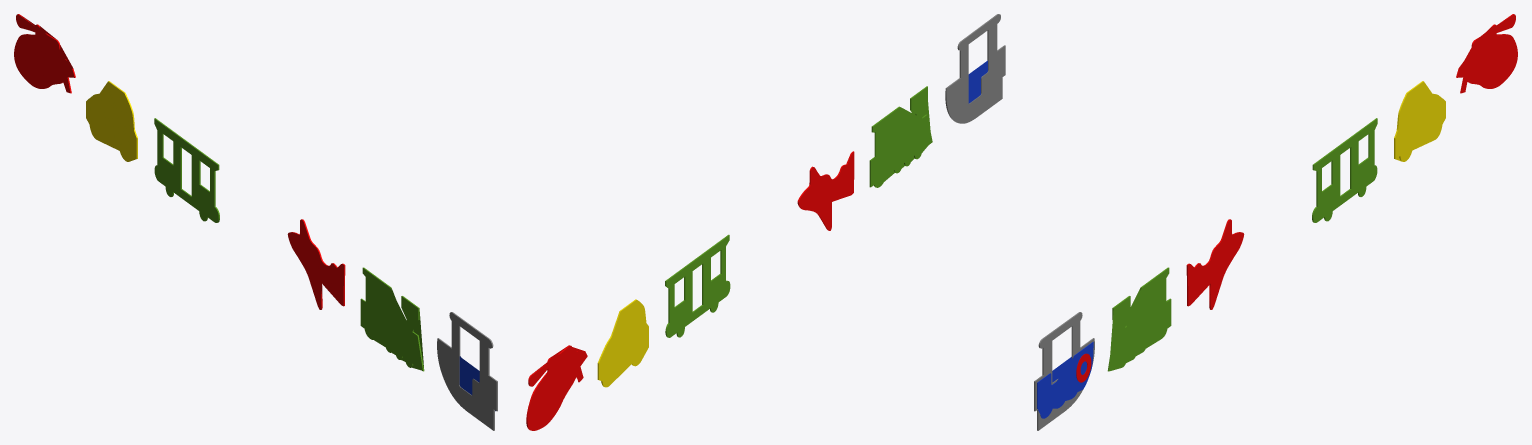
Rendered from TNK-14.fbx.
3 views of the same model, side by side, from view 1: azimuth 30°, elevation 25°; view 2: azimuth 150°, elevation 25°; view 3: azimuth 330°, elevation 25° (orthographic).
Parts seen in each view (by area): view 1: paravoz, korabl3, vagon, vertolet, mawina, samolet, korabl2; view 2: paravoz, korabl3, vagon, vertolet, mawina, samolet, korabl2; view 3: paravoz, vagon, vertolet, mawina, samolet, korabl2, korabl3.
Part boxes in pixels (x1=…): paravoz: x1=360, y1=267, x2=424, y2=371; korabl3: x1=437, y1=312, x2=497, y2=430; vagon: x1=154, y1=118, x2=219, y2=222; vertolet: x1=14, y1=14, x2=75, y2=93; mawina: x1=86, y1=81, x2=137, y2=161; samolet: x1=287, y1=219, x2=345, y2=309; korabl2: x1=459, y1=356, x2=495, y2=411; paravoz: x1=869, y1=86, x2=932, y2=187; korabl3: x1=945, y1=14, x2=1005, y2=123; vagon: x1=665, y1=234, x2=730, y2=337; vertolet: x1=526, y1=345, x2=587, y2=430; mawina: x1=597, y1=299, x2=648, y2=387; samolet: x1=797, y1=151, x2=854, y2=230; korabl2: x1=968, y1=60, x2=987, y2=103; paravoz: x1=1107, y1=267, x2=1171, y2=371; vagon: x1=1312, y1=118, x2=1377, y2=222; vertolet: x1=1456, y1=14, x2=1517, y2=93; mawina: x1=1394, y1=81, x2=1445, y2=161; samolet: x1=1186, y1=219, x2=1244, y2=309; korabl2: x1=1037, y1=342, x2=1093, y2=418; korabl3: x1=1034, y1=312, x2=1094, y2=430.
Size of the model in its own units: 1.69 by 73.03 by 677.
